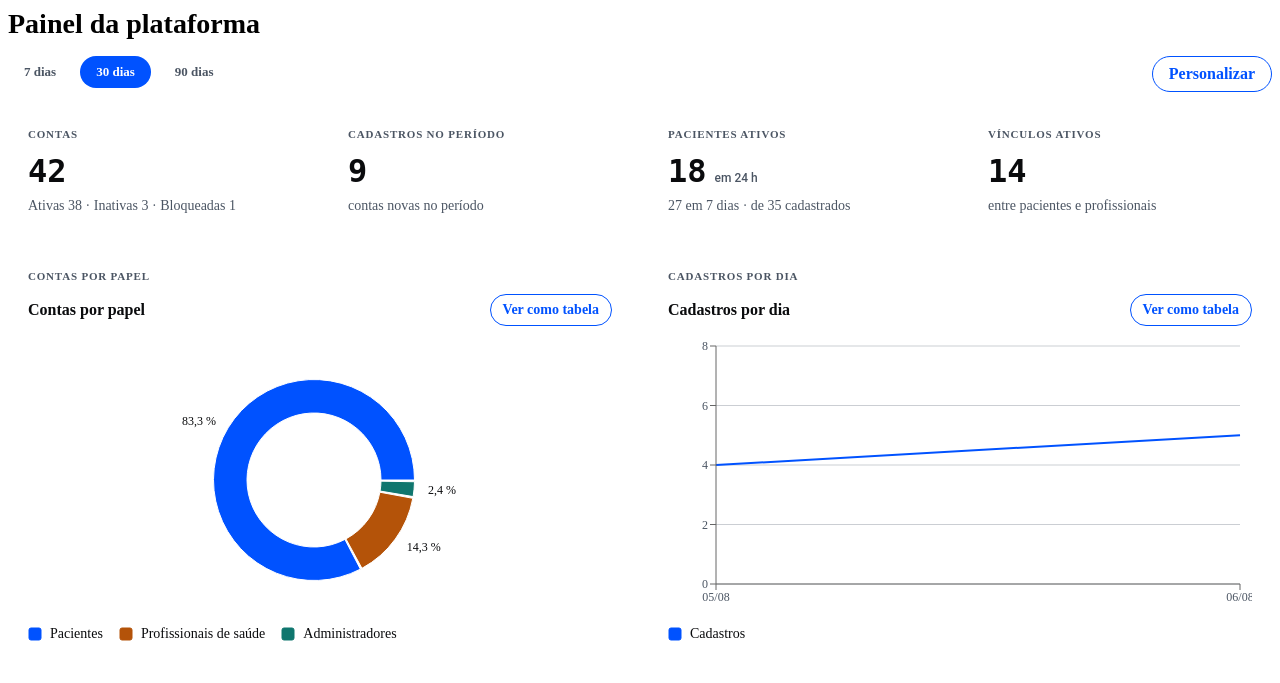
Test: AdminDashboardPage customizing the layout (LAY-03, LAY-07) › shows no cell for a deferred widget while editing the default layout
Click the button "Personalizar" at (1212, 74), box [1152,56,1272,92]
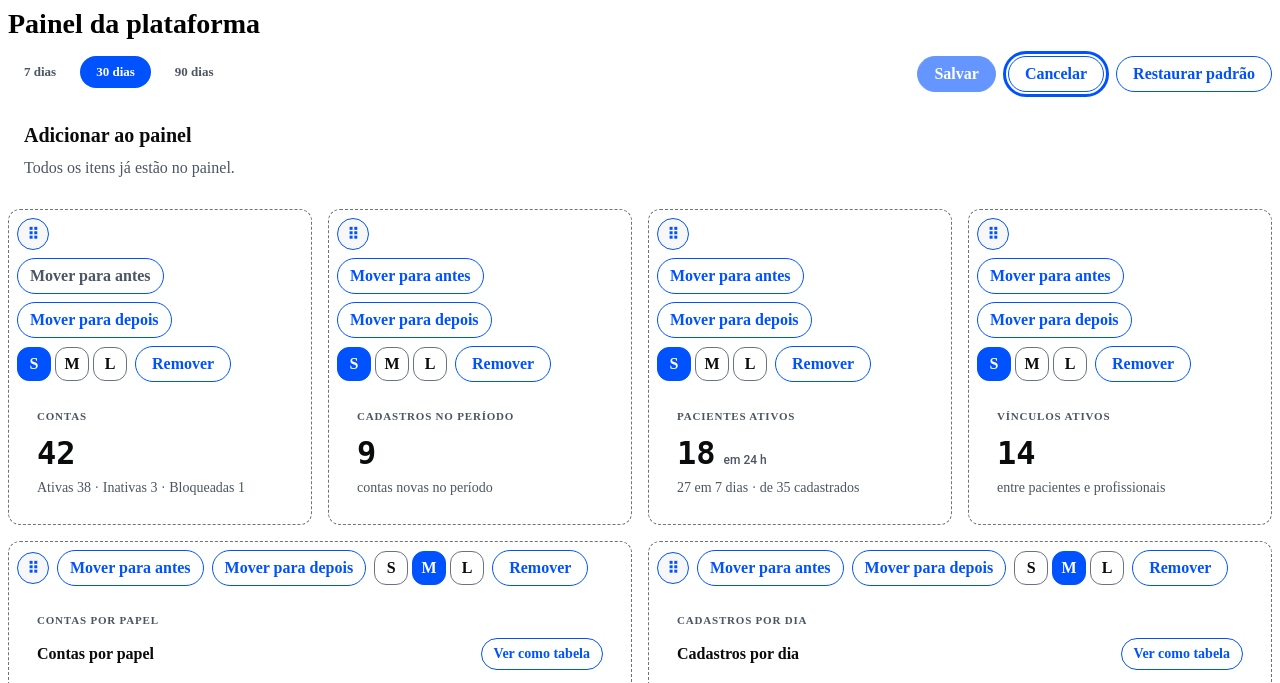
Expected: the element "Adicionar ao painel" is shown, [8,108,1272,193]
Expected: the number of buttons "Remover " is 11
